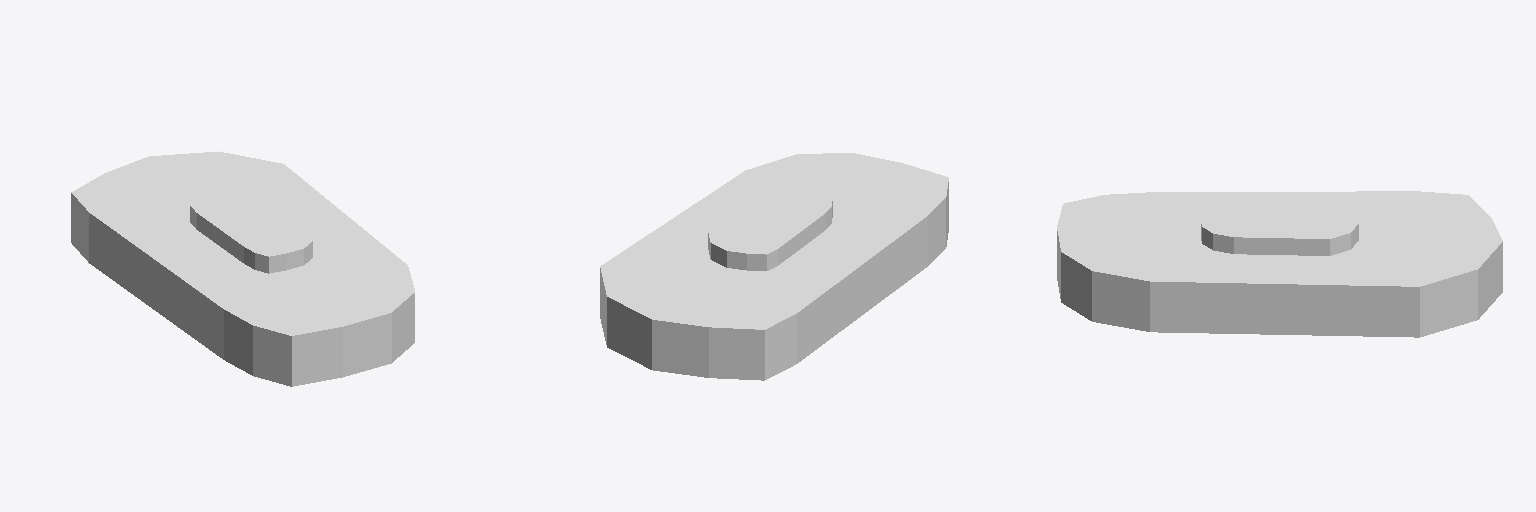
The model's file is New Game Object.obj.
The picture shows the model from 3 angles: view 1: azimuth 30°, elevation 25°; view 2: azimuth 150°, elevation 25°; view 3: azimuth 270°, elevation 25°; orthographic projection.
Parts seen in each view (by area): view 1: New Game Object; view 2: New Game Object; view 3: New Game Object.
Boxes of the visible parts, x1=… form: New Game Object: x1=71, y1=151, x2=414, y2=386; New Game Object: x1=600, y1=153, x2=948, y2=380; New Game Object: x1=1057, y1=191, x2=1502, y2=337.
Size of the model in its own units: 12.12 by 4 by 23.91.